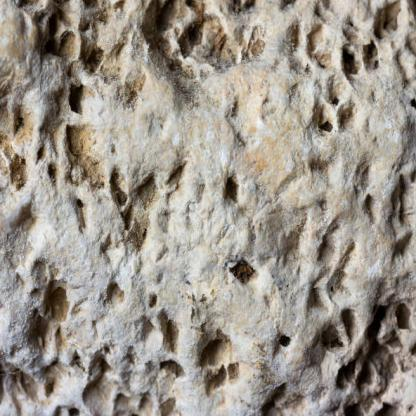Sedimentary_Limestone: (4, 5, 416, 415)
